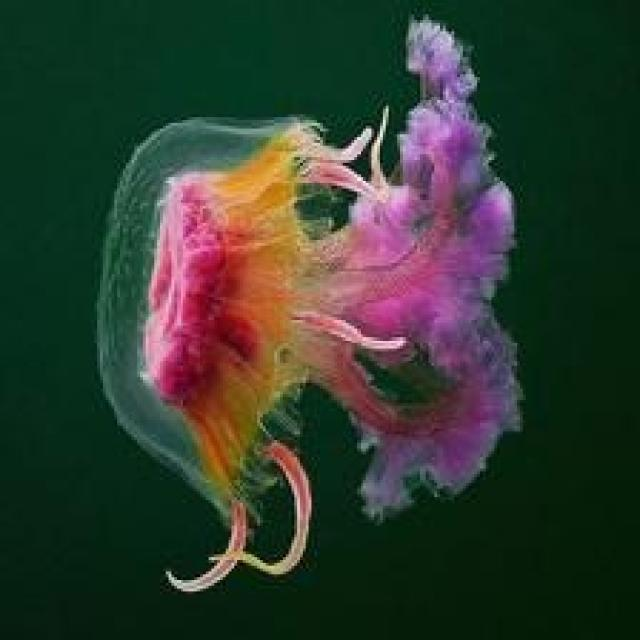Box-jellyfish: (91, 11, 526, 592)
